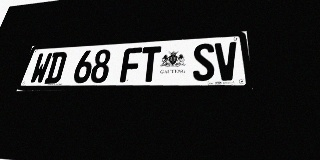6: (72, 50, 96, 83)
8: (89, 49, 113, 83)
D: (44, 52, 68, 84)
F: (119, 47, 142, 82)
S: (193, 43, 215, 81)
T: (139, 46, 161, 82)
V: (215, 42, 239, 81)
W: (29, 52, 53, 84)
